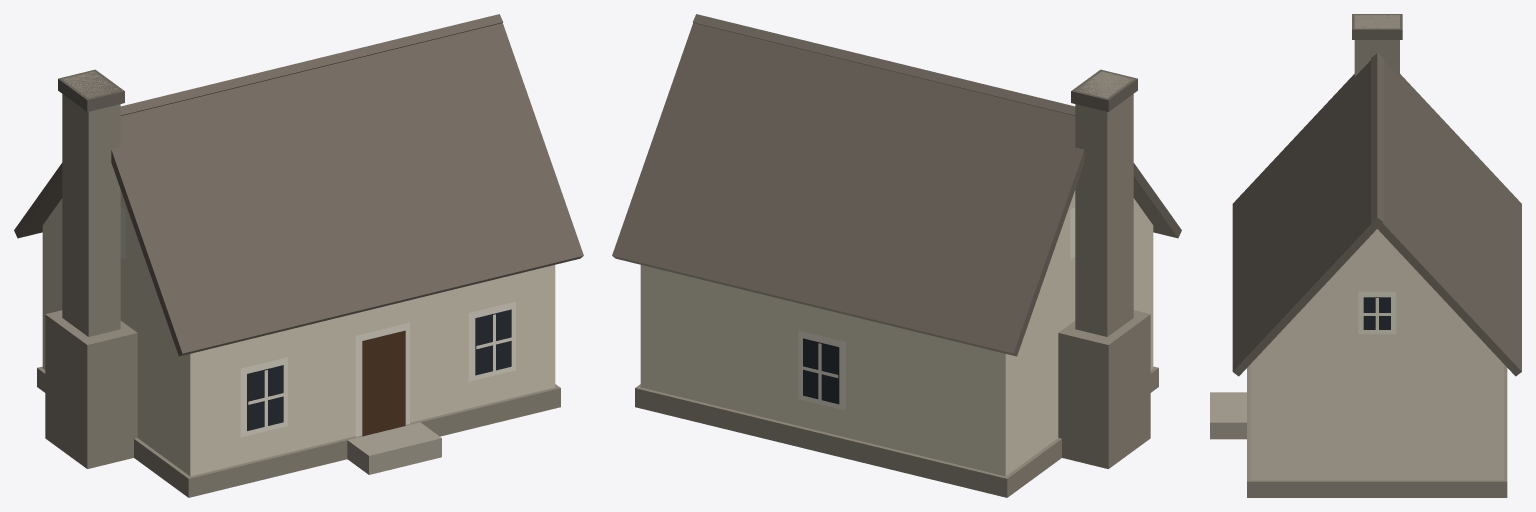
Rendered from cottage.glb.
3 renders of one model, left to right at view 1: azimuth 30°, elevation 25°; view 2: azimuth 150°, elevation 25°; view 3: azimuth 270°, elevation 25°, orthographic. The views are drawn at different scales.
Visible parts, largest first — view 1: cottage; view 2: cottage; view 3: cottage.
Part boxes in pixels (x1,y1,x2,y2): cottage: (14,14,583,497); cottage: (612,14,1181,497); cottage: (1210,14,1521,497).
Bounding box in the file's own units: 9.5 × 7.6 × 6.9.
